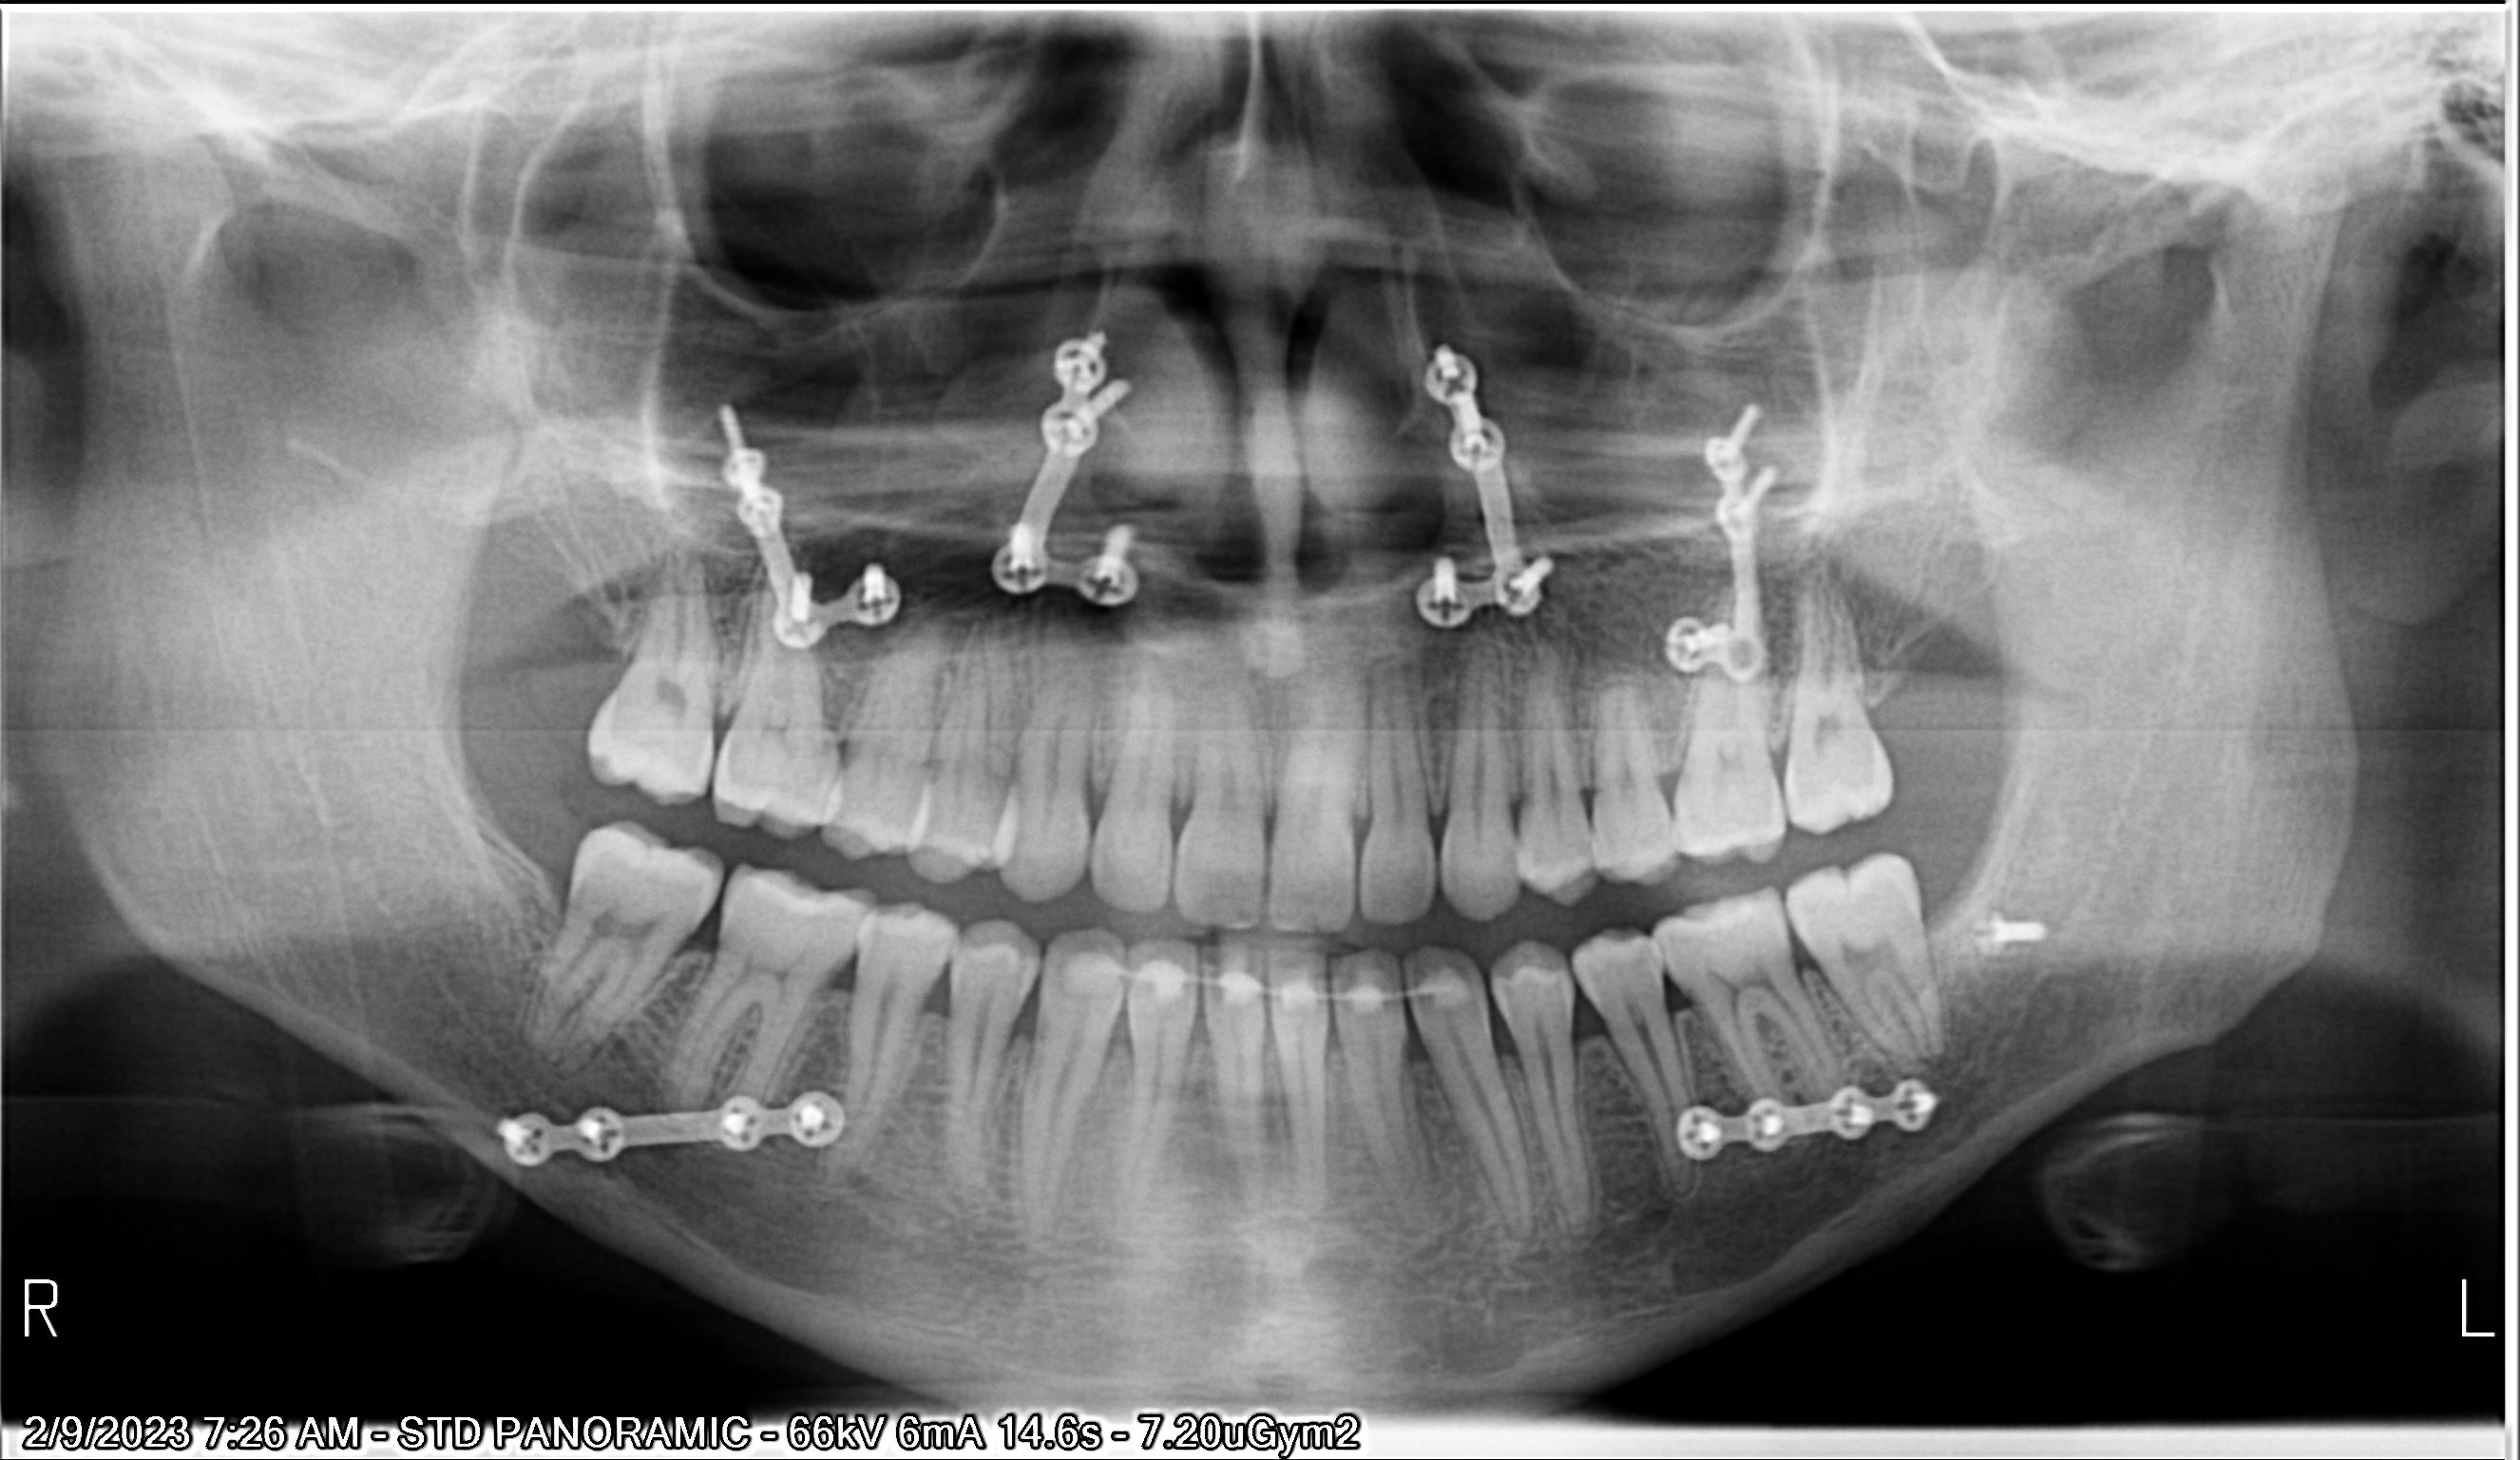SRD: (714, 393, 910, 650), (985, 322, 1150, 624), (1402, 344, 1561, 645), (1655, 391, 1794, 692), (471, 1074, 854, 1180), (1667, 1074, 1966, 1165)
